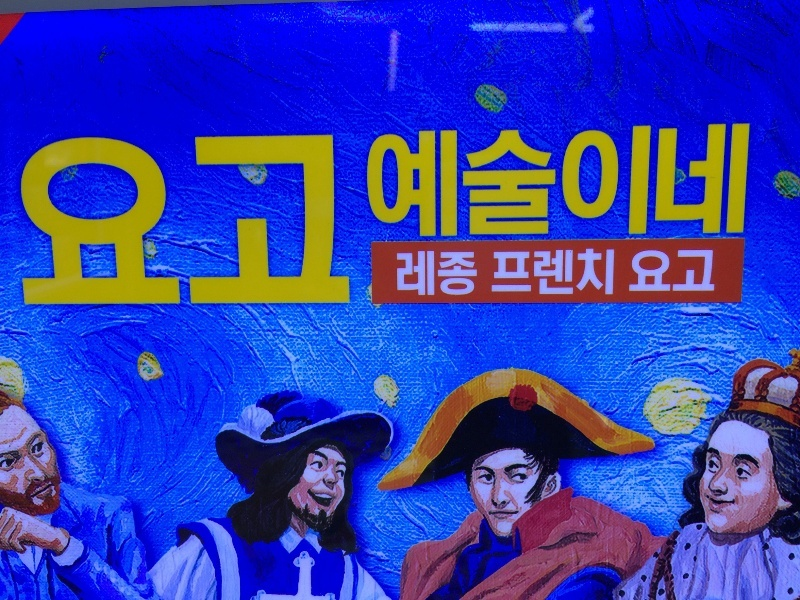text: (337, 134, 353, 311), (17, 134, 32, 311), (33, 134, 48, 311), (49, 134, 64, 311), (65, 134, 80, 311), (81, 134, 96, 311), (97, 134, 112, 311), (113, 134, 128, 311), (129, 134, 144, 311), (145, 134, 160, 311), (161, 134, 176, 311), (177, 134, 192, 311), (193, 134, 208, 311), (209, 134, 224, 311), (225, 134, 240, 311), (241, 134, 256, 311), (257, 134, 272, 311), (273, 134, 288, 311), (289, 134, 304, 311), (305, 134, 320, 311), (321, 134, 336, 311), (369, 122, 384, 242), (385, 122, 400, 242), (401, 122, 416, 242), (417, 122, 432, 242), (433, 122, 448, 242), (449, 122, 464, 242), (465, 122, 480, 242), (481, 122, 496, 242), (497, 122, 512, 242), (513, 122, 528, 242), (529, 122, 544, 242), (545, 122, 560, 242), (561, 122, 576, 242), (577, 122, 592, 242), (593, 122, 608, 242), (609, 122, 624, 242), (625, 122, 640, 242), (641, 122, 656, 242), (657, 122, 672, 242), (673, 122, 688, 242), (689, 122, 704, 242), (705, 122, 720, 242), (721, 122, 736, 242), (737, 122, 752, 242), (497, 247, 512, 296), (513, 247, 528, 296), (529, 247, 544, 296), (545, 247, 560, 296), (561, 247, 576, 296), (577, 247, 592, 296), (593, 247, 608, 296), (362, 122, 368, 242), (401, 251, 416, 298), (417, 251, 432, 298), (433, 251, 448, 298), (449, 251, 464, 298), (465, 251, 479, 298), (641, 249, 656, 292), (657, 249, 672, 292), (673, 249, 688, 292), (689, 249, 704, 292), (13, 134, 16, 311), (705, 249, 717, 292), (631, 249, 640, 292), (609, 247, 615, 296), (396, 251, 400, 298), (493, 247, 496, 296)
